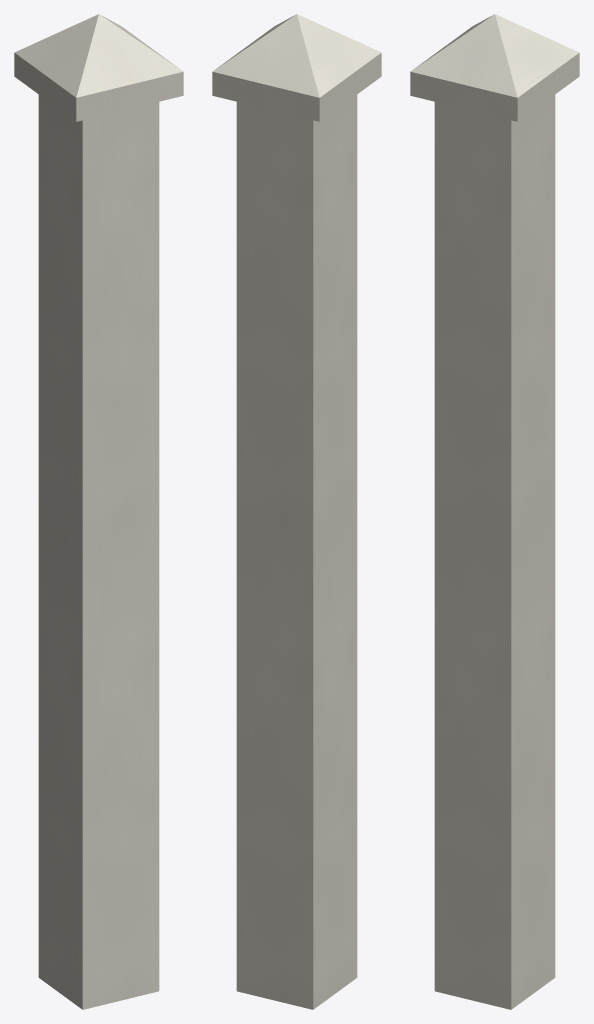
File: fence_picket_line_post.gltf
3 renders of one model, left to right at view 1: azimuth 30°, elevation 25°; view 2: azimuth 150°, elevation 25°; view 3: azimuth 330°, elevation 25°, orthographic.
Parts seen in each view (by area): view 1: fence_picket_line_post; view 2: fence_picket_line_post; view 3: fence_picket_line_post.
Part boxes in pixels (bbox=[...]): fence_picket_line_post: bbox=[14, 14, 183, 1009]; fence_picket_line_post: bbox=[212, 14, 381, 1009]; fence_picket_line_post: bbox=[410, 14, 579, 1009].
Bounding box in the file's own units: 0.14 × 1.21 × 0.14.
1 material, 1 textured.
